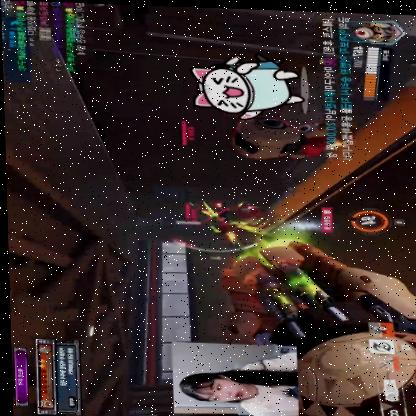donation: (187, 10, 352, 157)
streamer: (174, 346, 296, 416)
